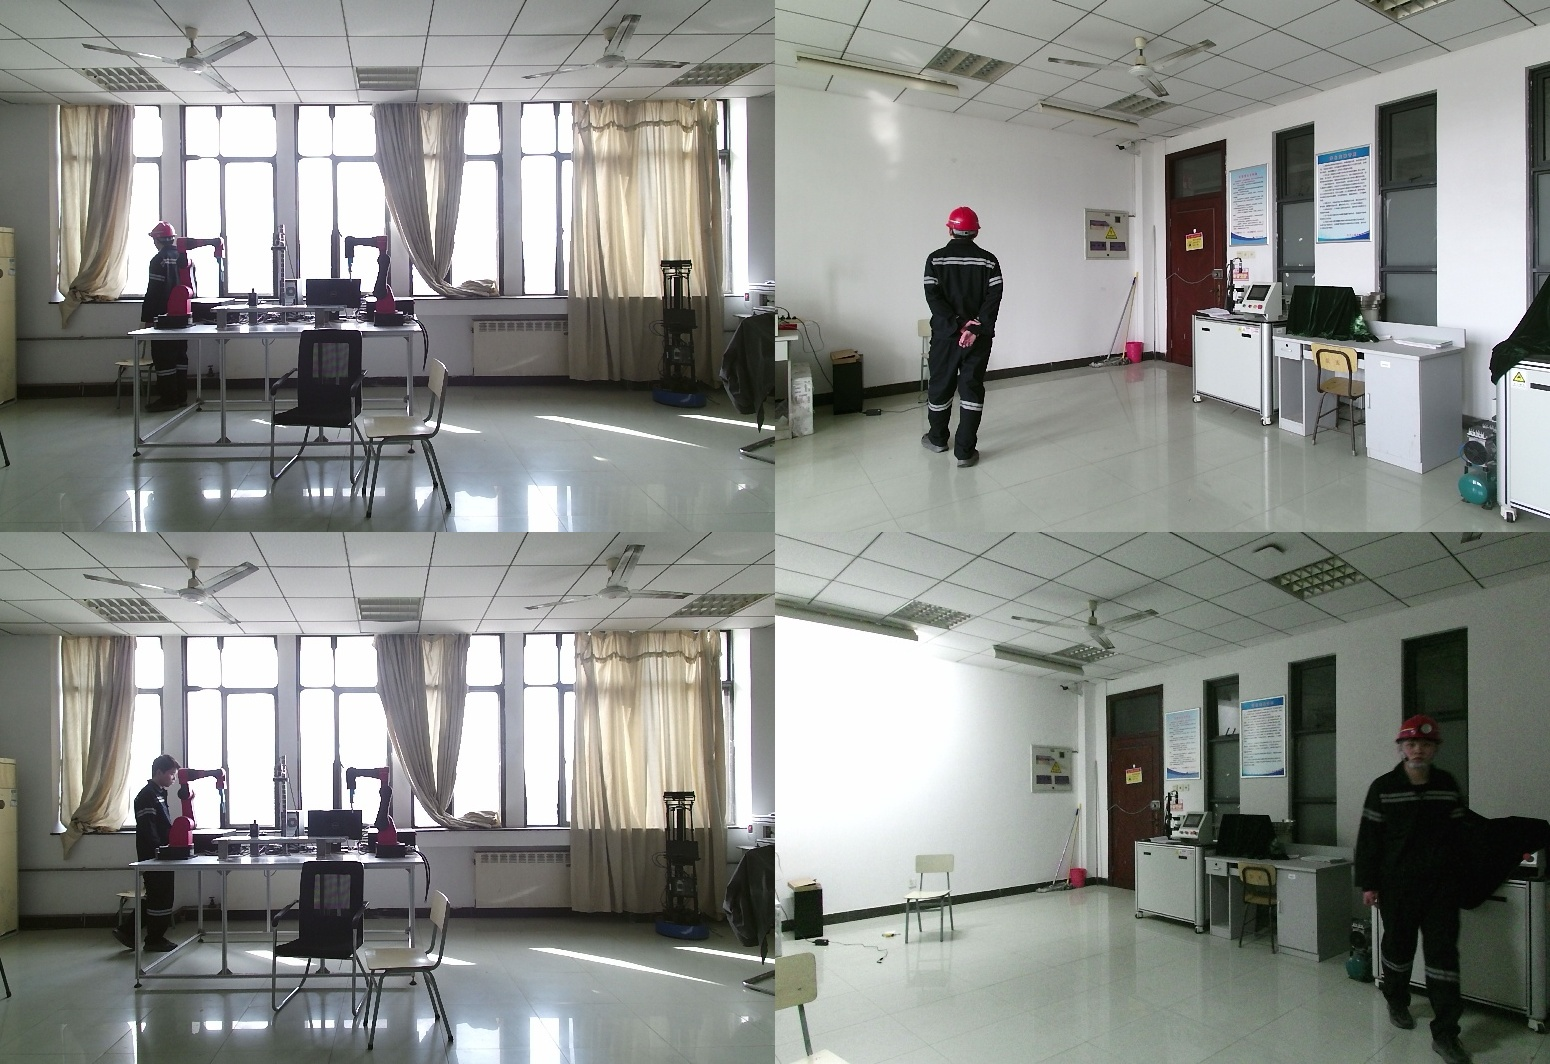person: (1354, 719, 1478, 1050), (918, 209, 1016, 466), (118, 753, 193, 959), (140, 222, 190, 423)
